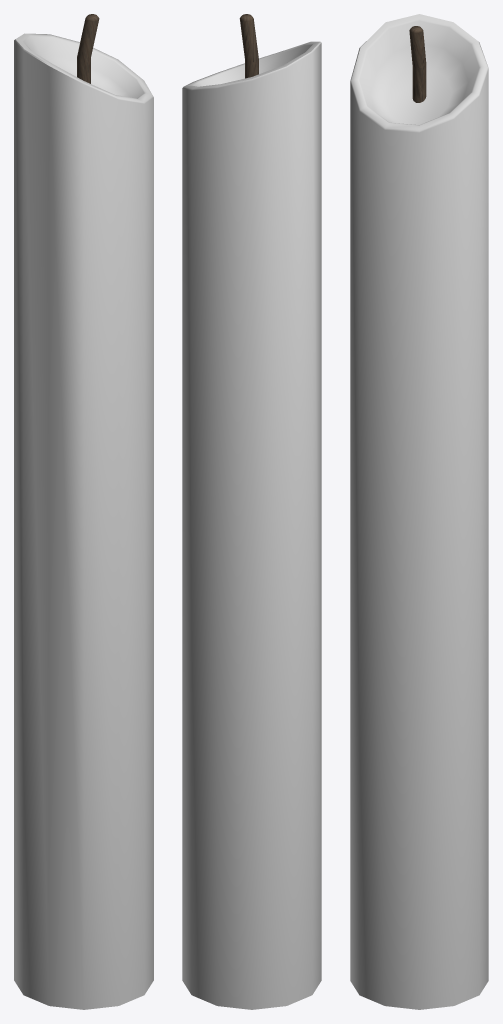
File: Will_Candle.glb
3 renders of one model, left to right at view 1: azimuth 30°, elevation 25°; view 2: azimuth 150°, elevation 25°; view 3: azimuth 270°, elevation 25°, orthographic.
Visible parts, largest first — view 1: Cylinder, Cylinder.001; view 2: Cylinder, Cylinder.001; view 3: Cylinder, Cylinder.001.
Part boxes in pixels (box(x1,y1,x2,y2)): Cylinder: box(14, 33, 153, 1009); Cylinder.001: box(77, 14, 99, 83); Cylinder: box(182, 41, 321, 1009); Cylinder.001: box(239, 14, 258, 78); Cylinder: box(350, 14, 488, 1009); Cylinder.001: box(409, 26, 426, 102).
Bounding box in the file's own units: 0.2774 × 2.11 × 0.2774.
Materials: 2 (1 with a texture image).
